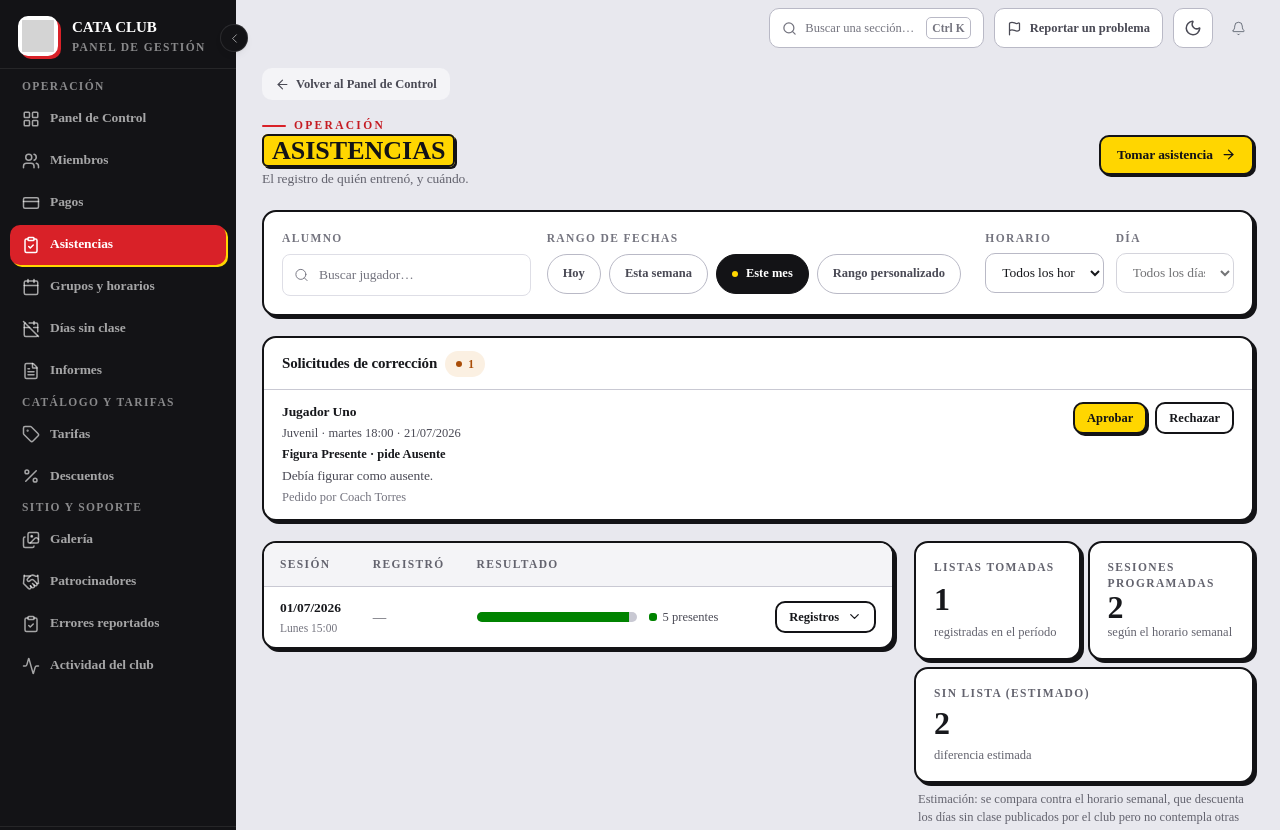
Test: AttendancePage — session pagination › never pads a short list with skeleton rows (they read as a perpetual load)
This screenshot has width=1280, height=830.
Step 1. Click the button "Hoy" → click(574, 274), box 547,254 -> 601,294
(page scrolled)
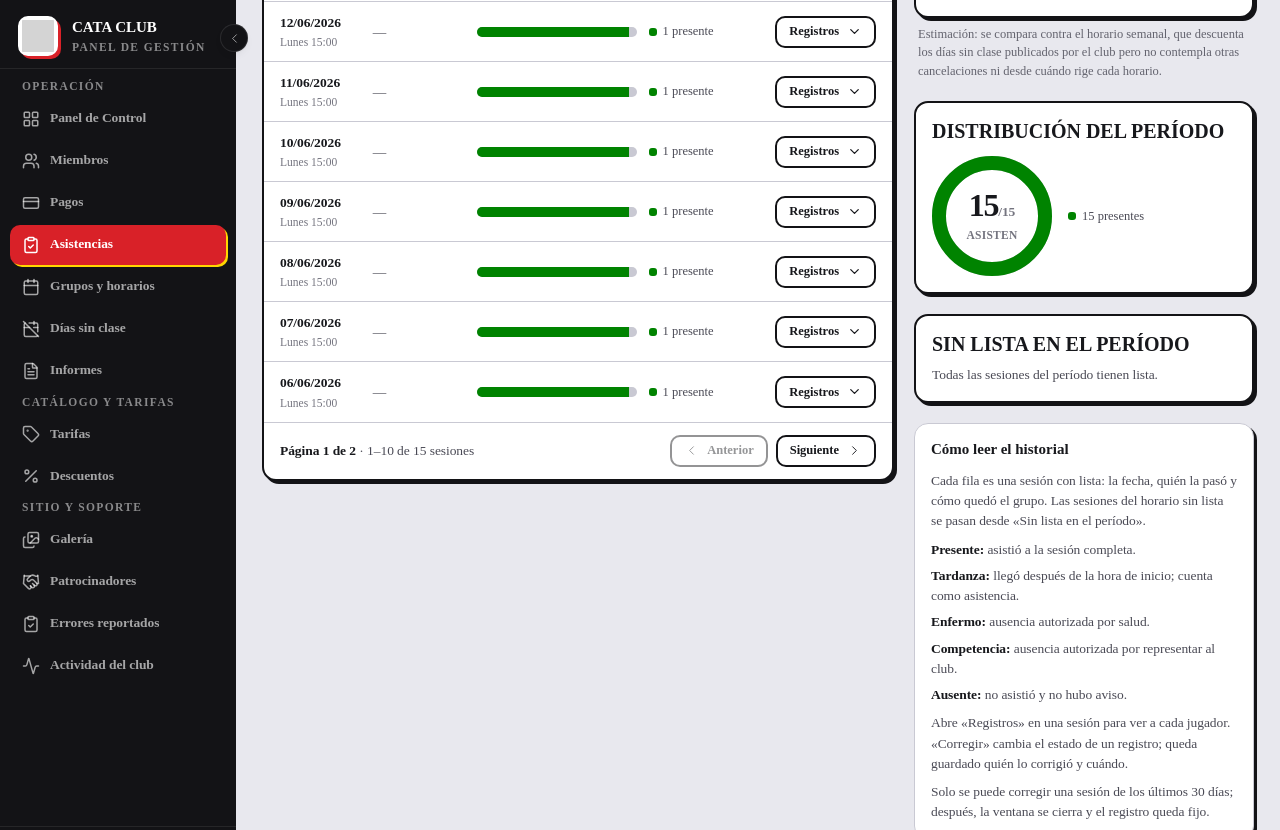
Expected: the text "Página 1 de 2" is shown, 280,443 -> 356,458
